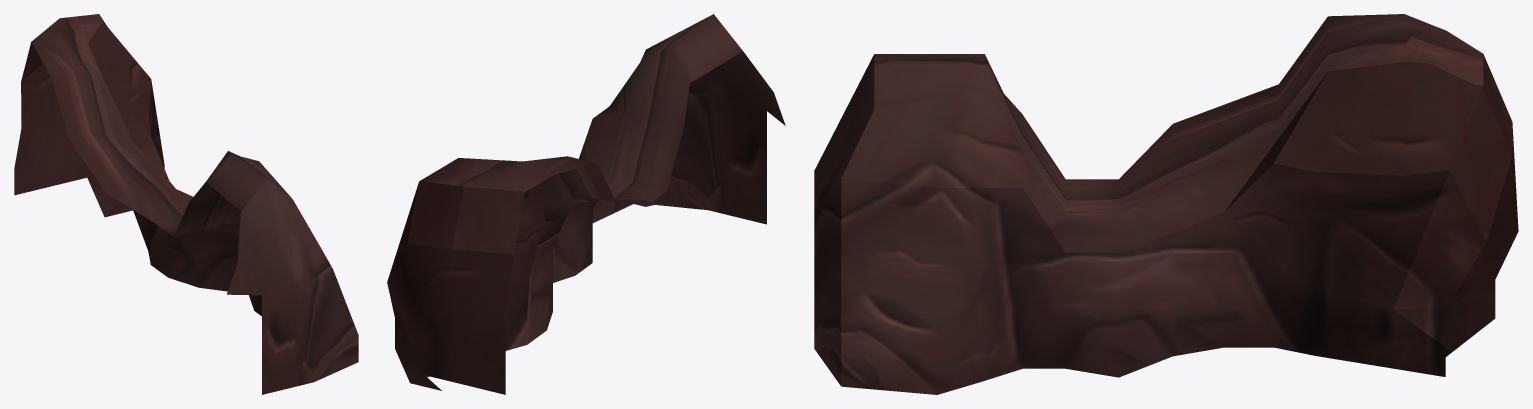
File: steen.obj
The picture shows the model from 3 angles, left to right: view 1: azimuth 30°, elevation 25°; view 2: azimuth 150°, elevation 25°; view 3: azimuth 270°, elevation 25°; orthographic projection. The views are drawn at different scales.
Visible parts, largest first — view 1: pCube1; view 2: pCube1; view 3: pCube1.
Part boxes in pixels (x1=…): pCube1: x1=14, y1=14, x2=358, y2=394; pCube1: x1=387, y1=14, x2=785, y2=394; pCube1: x1=814, y1=14, x2=1518, y2=394.
Size of the model in its own units: 4.25 by 5.61 by 12.22.
